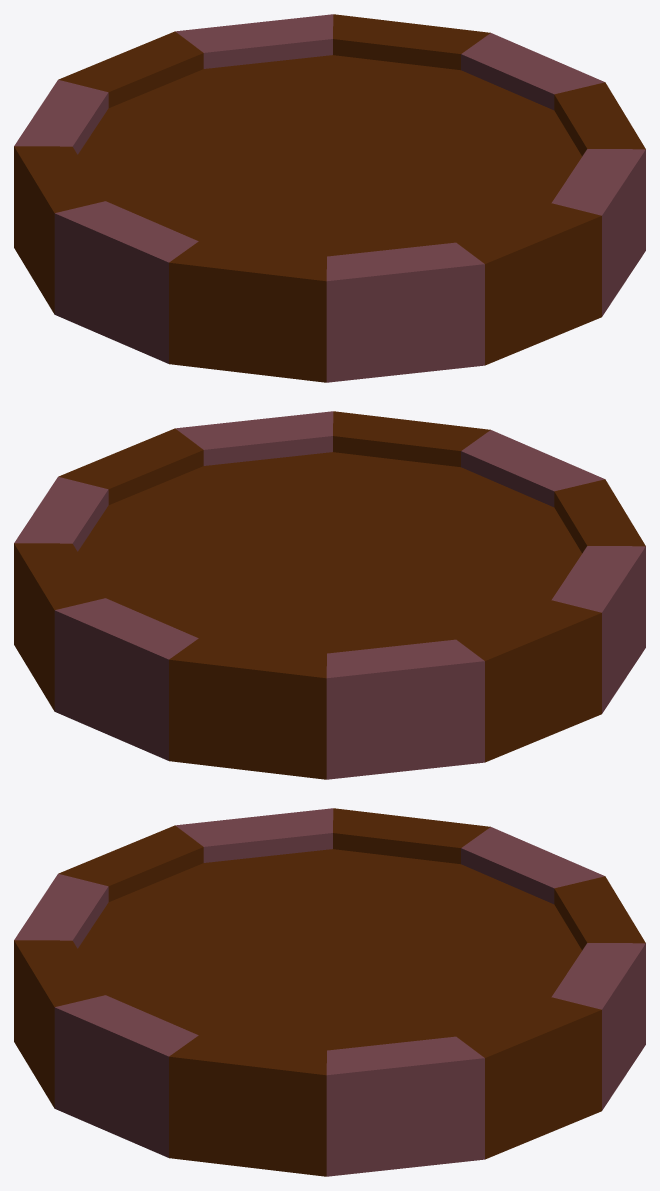
3 renders of one model, top to bottom at view 1: azimuth 30°, elevation 25°; view 2: azimuth 150°, elevation 25°; view 3: azimuth 270°, elevation 25°, orthographic.
Parts seen in each view (by area): view 1: Cylinder.004; view 2: Cylinder.004; view 3: Cylinder.004.
Part boxes in pixels (x1,y1,x2,y2): Cylinder.004: (14, 14, 645, 382); Cylinder.004: (14, 411, 645, 779); Cylinder.004: (14, 808, 645, 1176).
Bounding box in the file's own units: 150 × 26.64 × 150.
